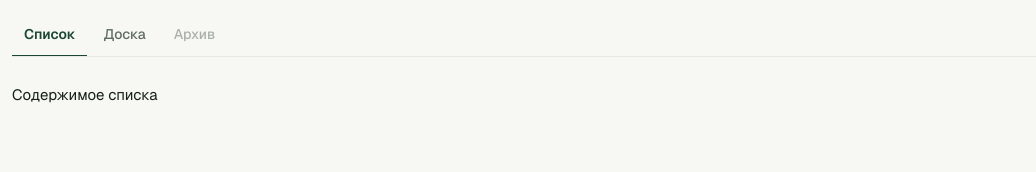
Test case: Tabs › клик по вкладке переключает выбор и показанную панель
The image size is (1036, 172).
Click the tab "Доска" at (125, 34), box [91,12,158,56]
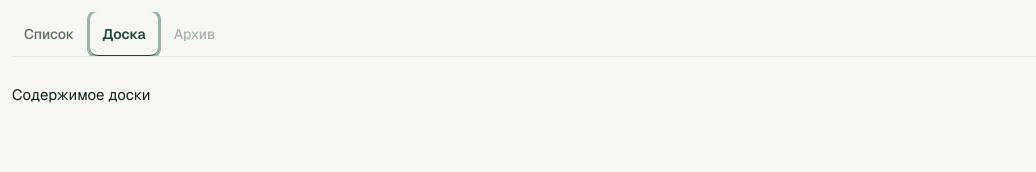
Now the panel reads "Содержимое доски", box [12,85,150,104]
